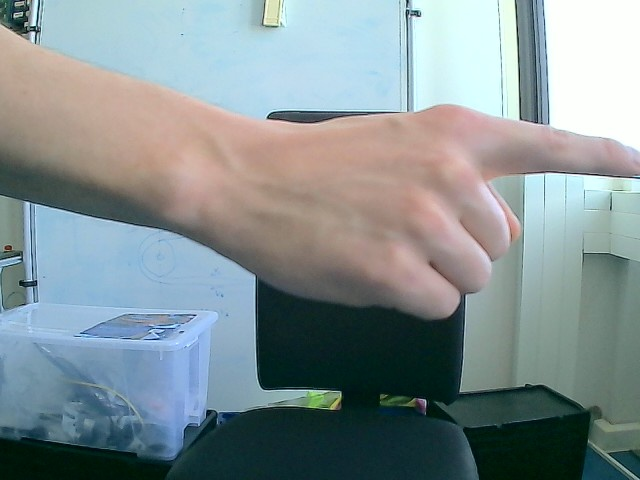left: (221, 102, 639, 322)
